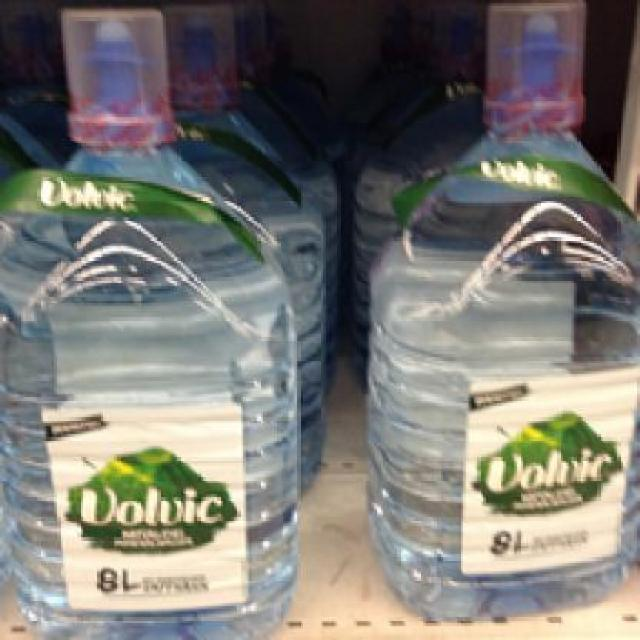Water: (0, 0, 295, 638), (354, 0, 637, 620)
